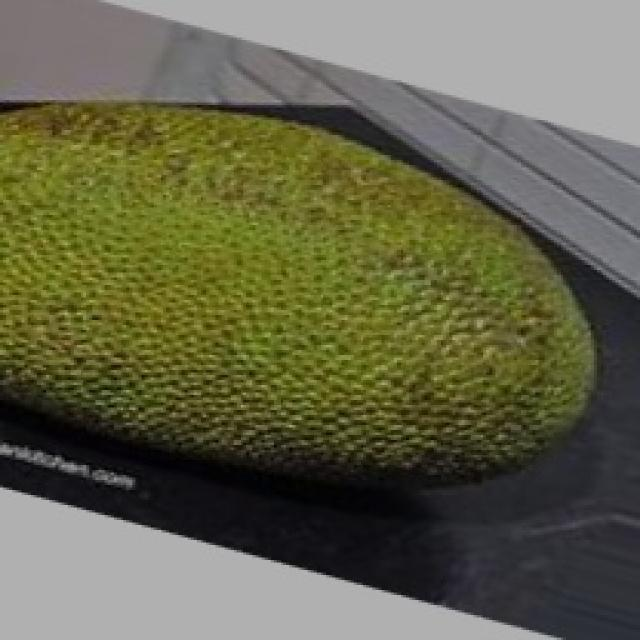Fruit: (261, 132, 637, 542)
